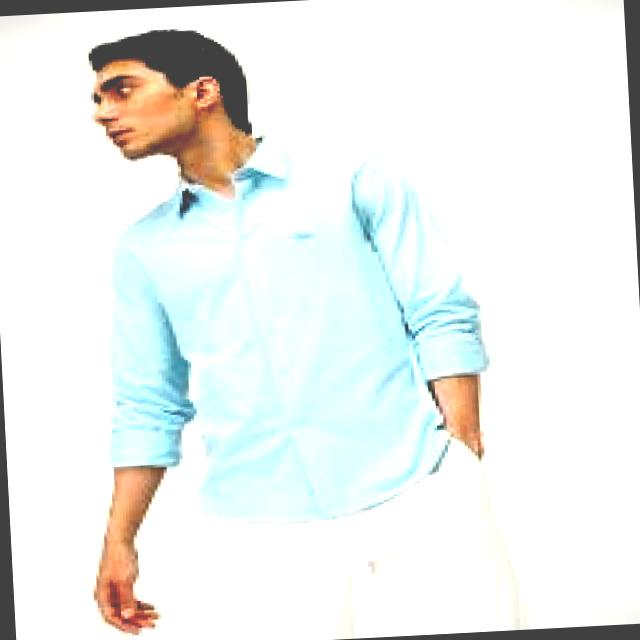face: (92, 59, 201, 159)
lower-wear: (200, 437, 529, 639)
top-wear: (109, 135, 490, 522)
